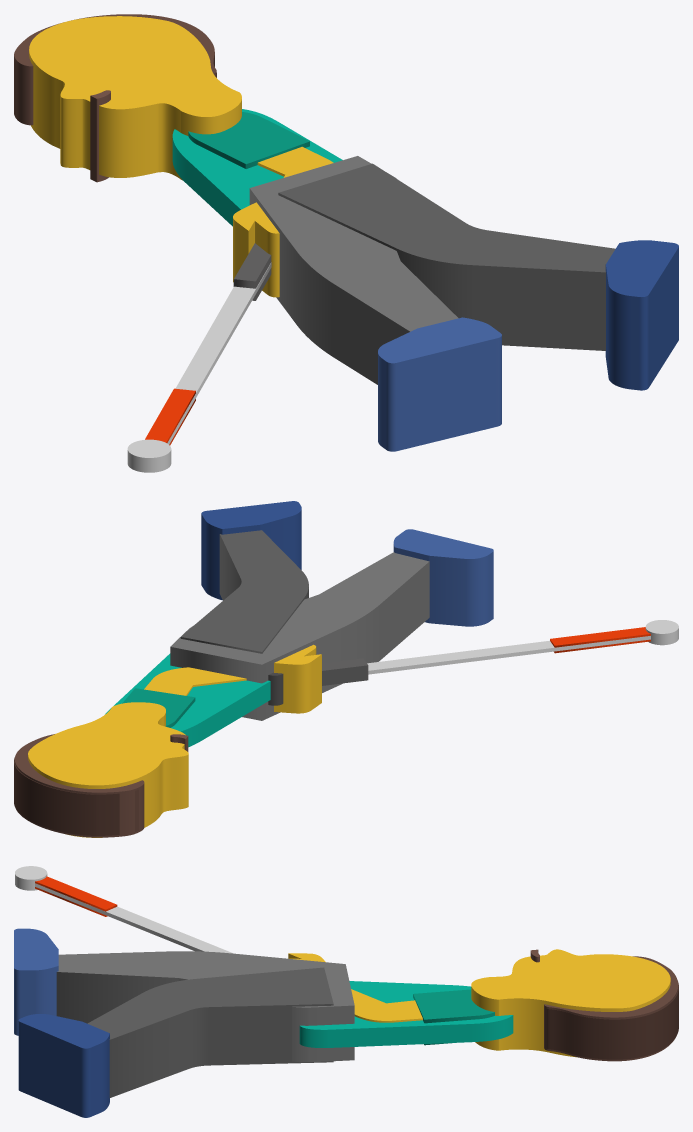
File: emoji_u1f468_200d_1f9af.glb
3 renders of one model, top to bottom at view 1: azimuth 30°, elevation 25°; view 2: azimuth 150°, elevation 25°; view 3: azimuth 270°, elevation 25°, orthographic. The views are drawn at different scales.
Parts seen in each view (by area): view 1: emoji_u1f468_200d_1f9af; view 2: emoji_u1f468_200d_1f9af; view 3: emoji_u1f468_200d_1f9af.
Boxes of the visible parts, box(x1,y1,x2,y2) form: emoji_u1f468_200d_1f9af: box(14, 14, 678, 472); emoji_u1f468_200d_1f9af: box(14, 501, 678, 837); emoji_u1f468_200d_1f9af: box(14, 866, 678, 1117).
Bounding box in the file's own units: 0.0249 × 0.0038 × 0.033.
